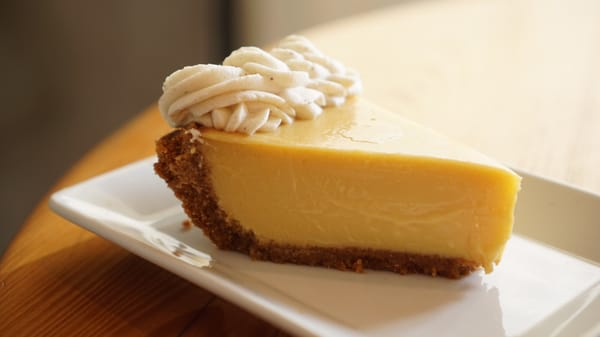soup: (156, 127, 522, 278)
